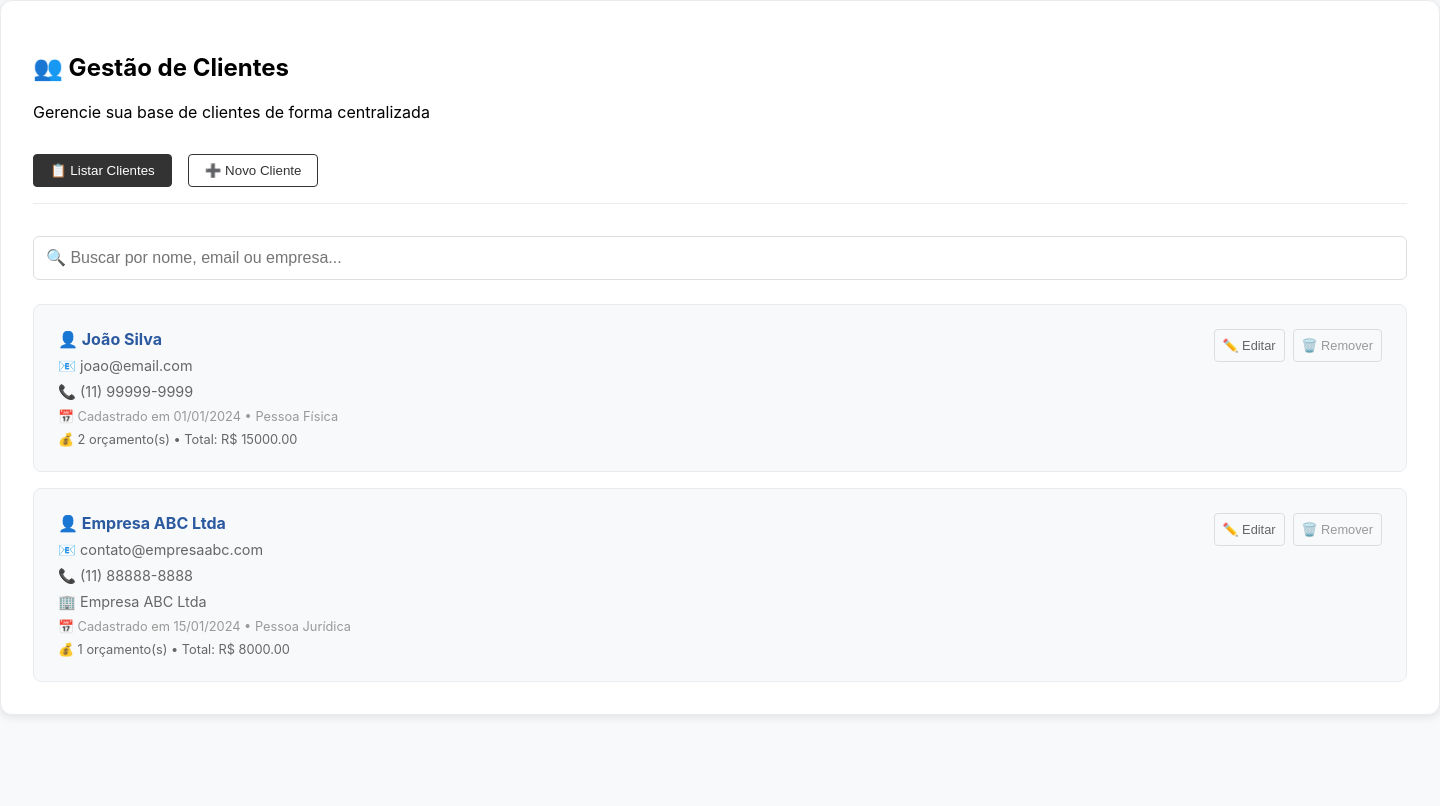
ClientManager › Formulário de edição › deve preencher formulário com dados do cliente selecionado
The image size is (1440, 806).
What coordinates should you click on to do the following:
click the button "✏️ Editar" in the row of "joao@email.com"
I would click on:
 (1249, 345)
Its box is [1214,329,1285,362].
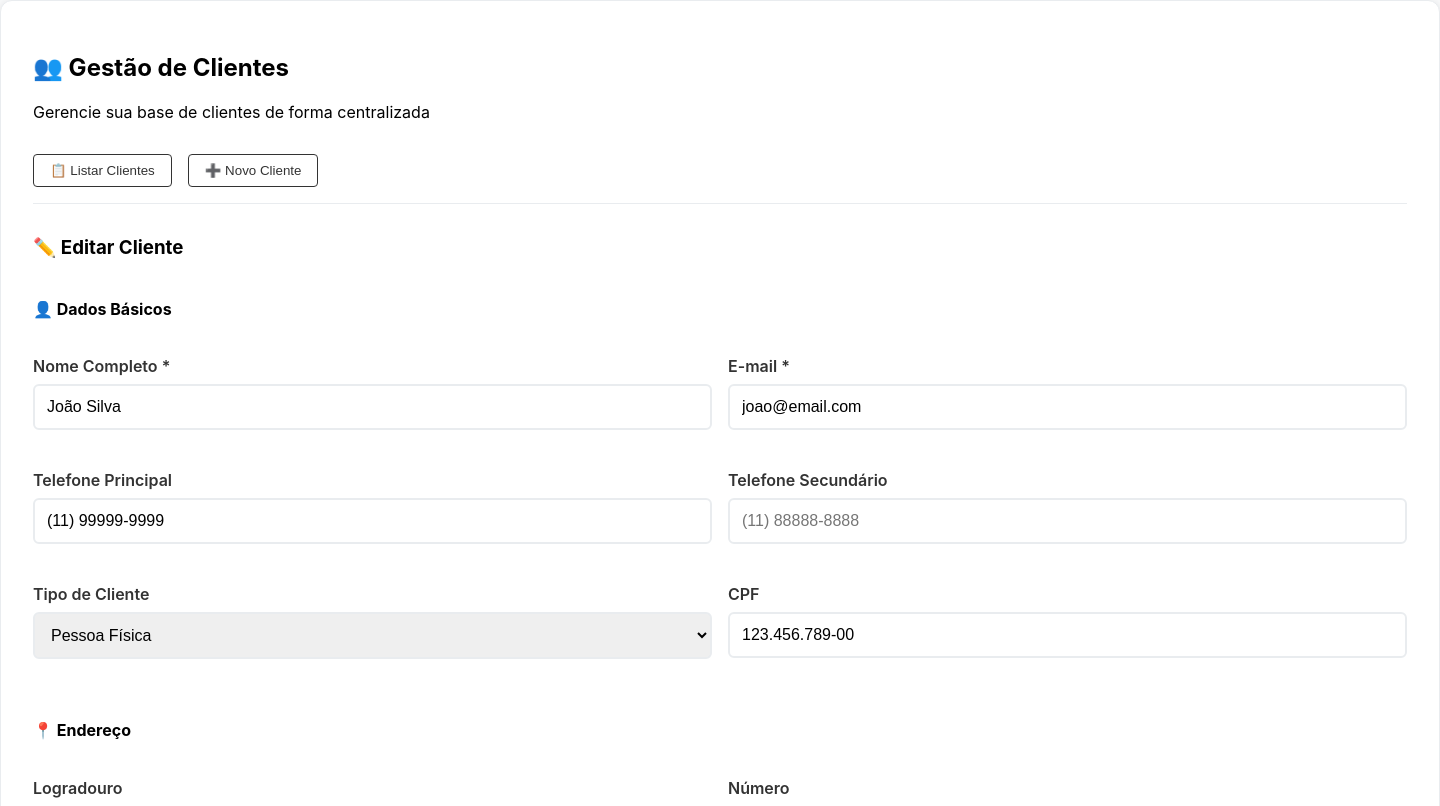
Expected: the field showing "João Silva" below "Nome Completo *" is shown, [33,384,712,430]
Expected: the field showing "joao@email.com" below "E-mail *" is shown, [728,384,1407,430]
Expected: the field showing "(11) 99999-9999" below "Telefone Principal" is shown, [33,498,712,544]
